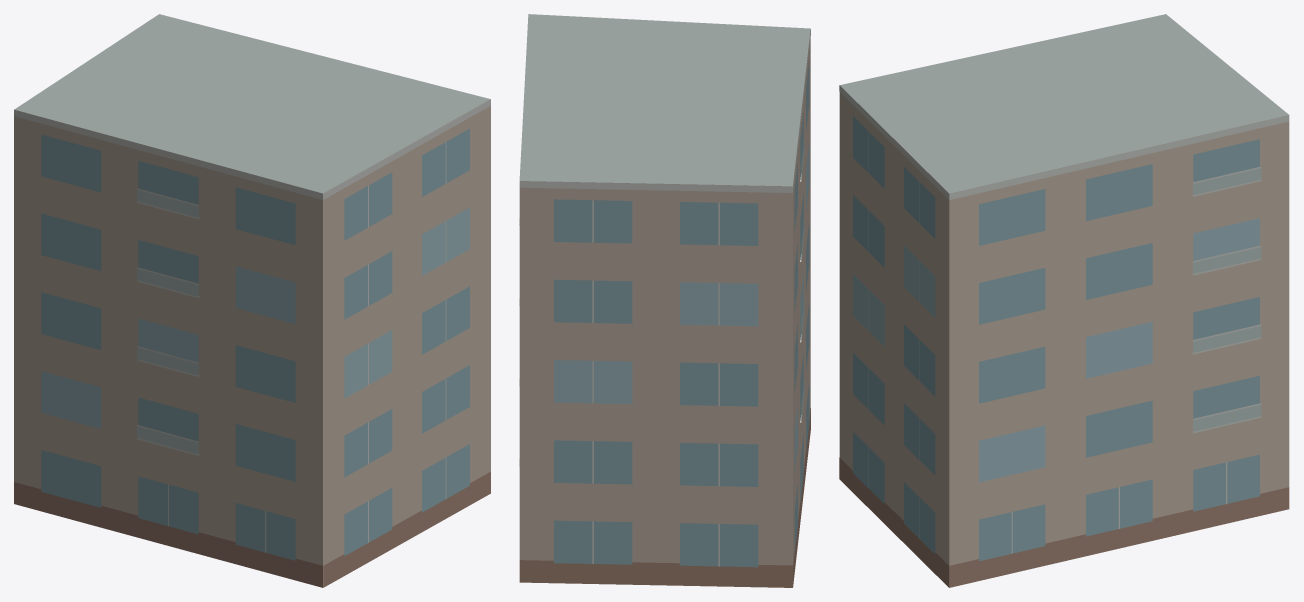
File: survey-upis-32863889.glb
The picture shows the model from 3 angles, left to right: view 1: azimuth 30°, elevation 25°; view 2: azimuth 150°, elevation 25°; view 3: azimuth 270°, elevation 25°; orthographic projection.
Parts seen in each view (by area): view 1: survey-upis-32863889.tmp; view 2: survey-upis-32863889.tmp; view 3: survey-upis-32863889.tmp.
Part boxes in pixels (x1=…): survey-upis-32863889.tmp: x1=14, y1=14, x2=490, y2=587; survey-upis-32863889.tmp: x1=519, y1=14, x2=810, y2=587; survey-upis-32863889.tmp: x1=839, y1=14, x2=1289, y2=587.
Bounding box in the file's own units: 14.31 × 14.63 × 15.14.
